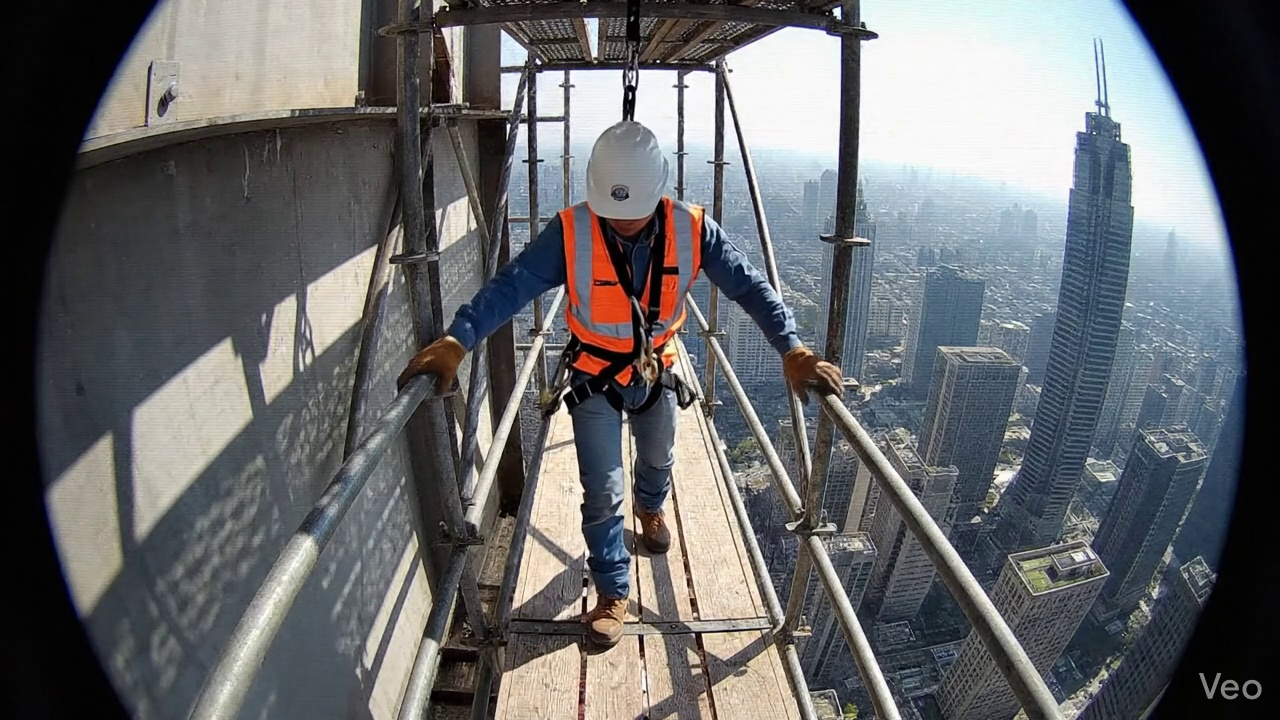person: (397, 120, 841, 646)
